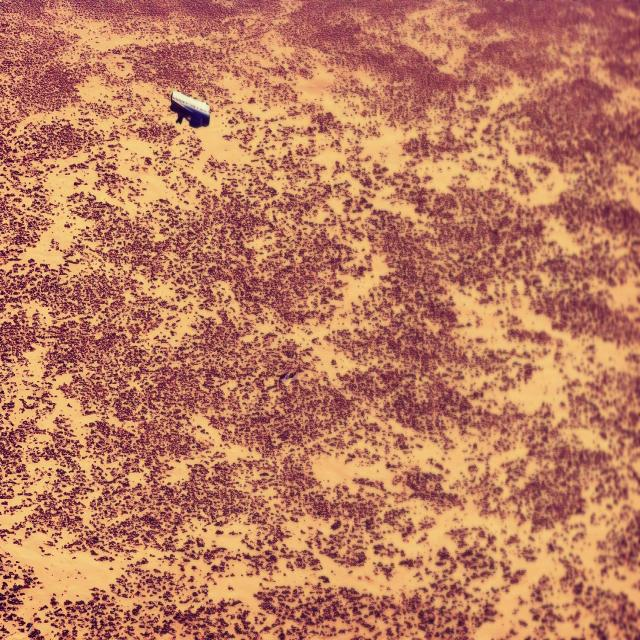airplane: (170, 89, 210, 127)
